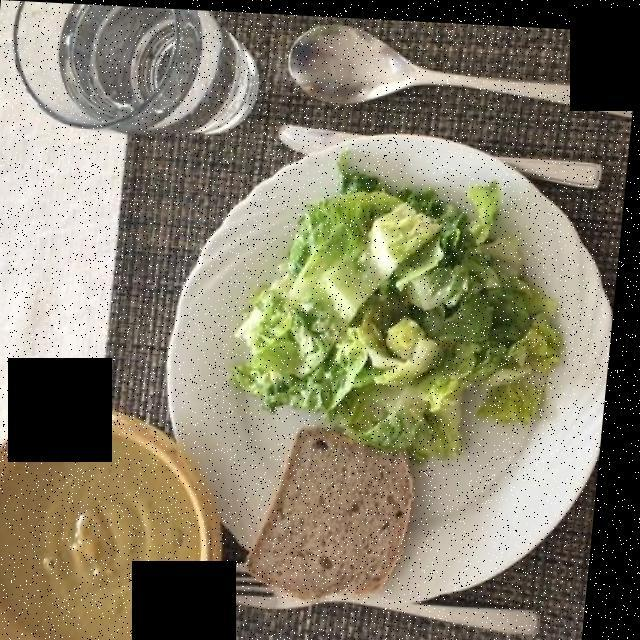bread: (261, 427, 420, 597)
salad: (243, 173, 554, 452)
soup: (0, 413, 216, 639)
water: (64, 5, 258, 136)
